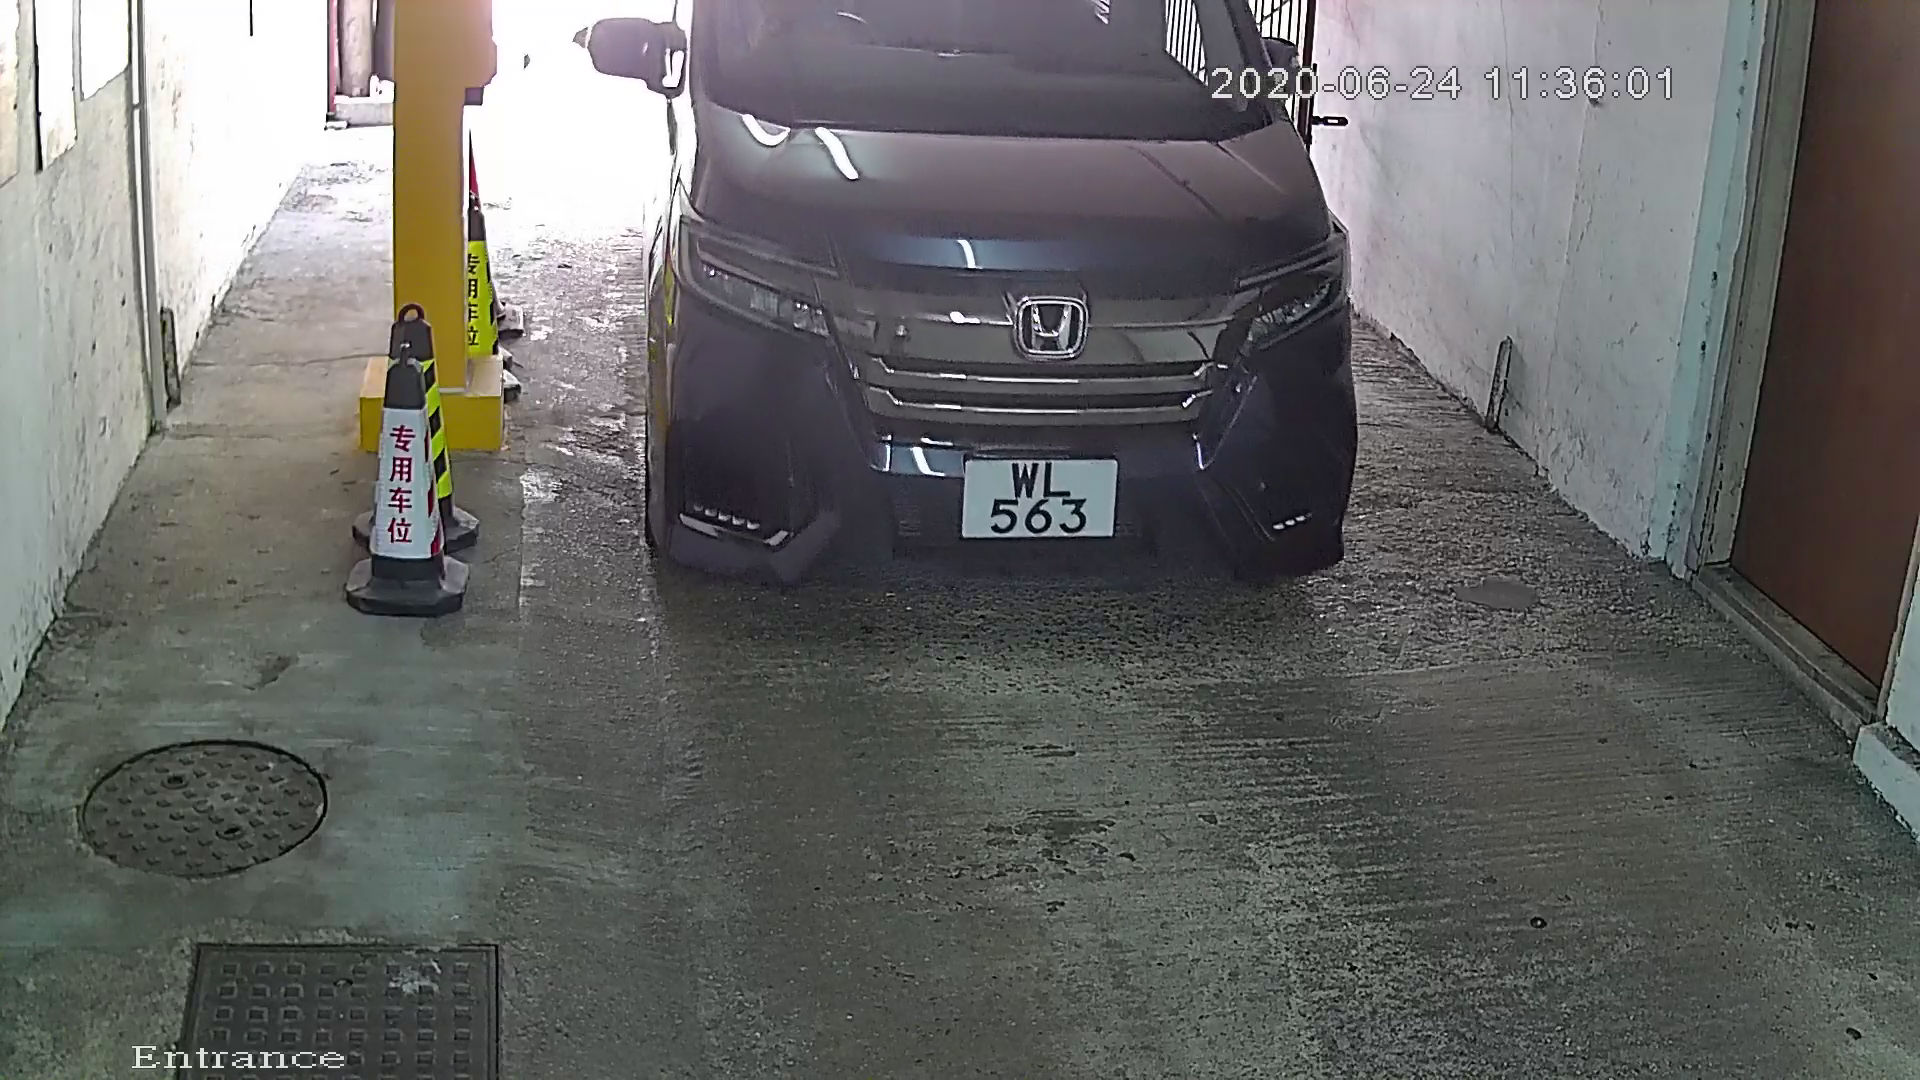Car: (585, 1, 1390, 630)
License Plate: (951, 445, 1126, 552)
